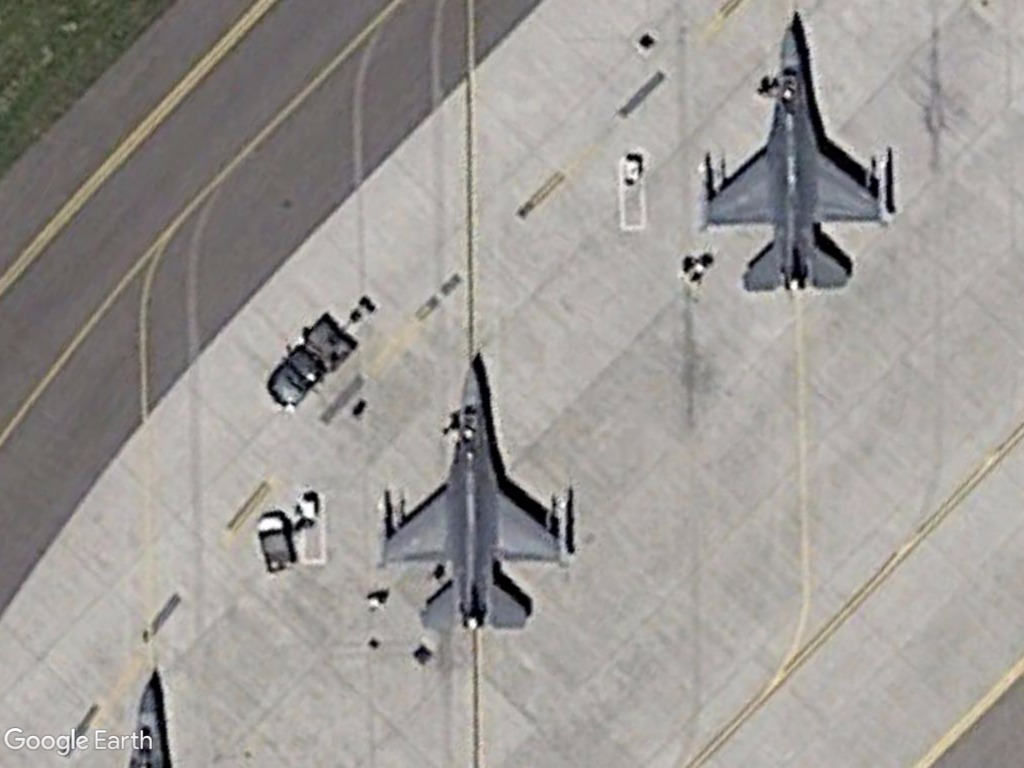fighter: (370, 346, 586, 648), (692, 16, 903, 301)
